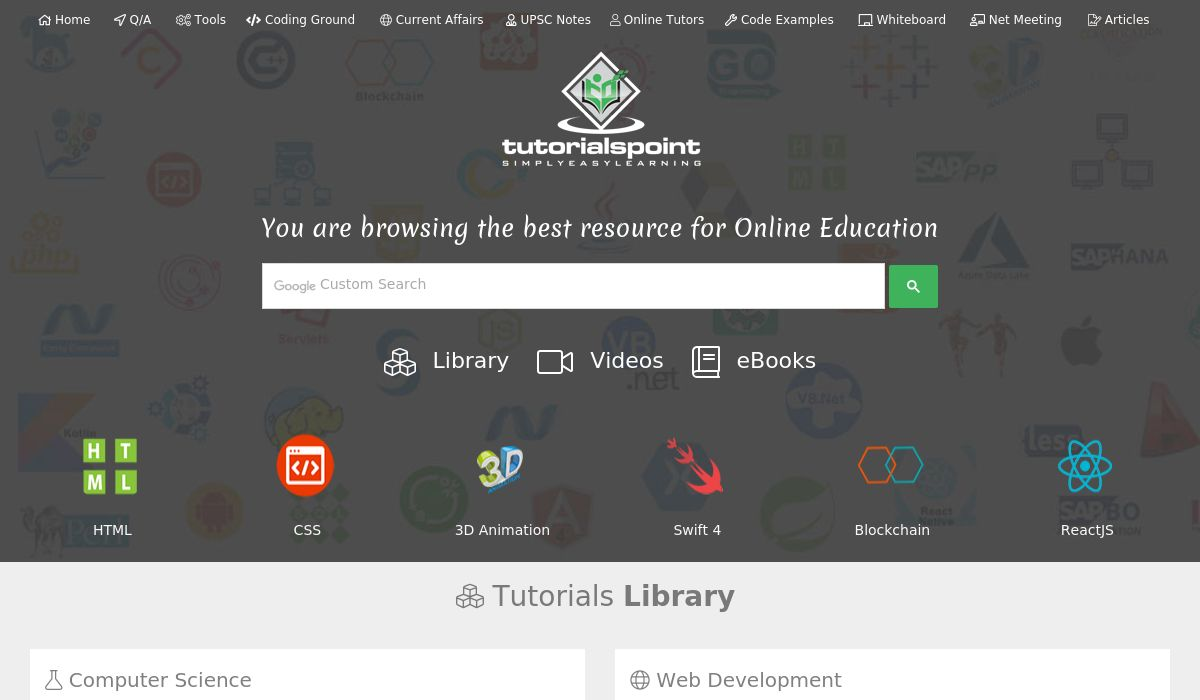menu: (1, 1, 1200, 39)
menu-button: (241, 1, 358, 39), (373, 1, 490, 39), (601, 1, 718, 39), (722, 1, 839, 39), (844, 1, 961, 39), (965, 1, 1082, 39), (1083, 1, 1200, 39), (496, 1, 599, 38), (35, 1, 95, 39), (106, 1, 166, 39), (173, 1, 233, 39)
